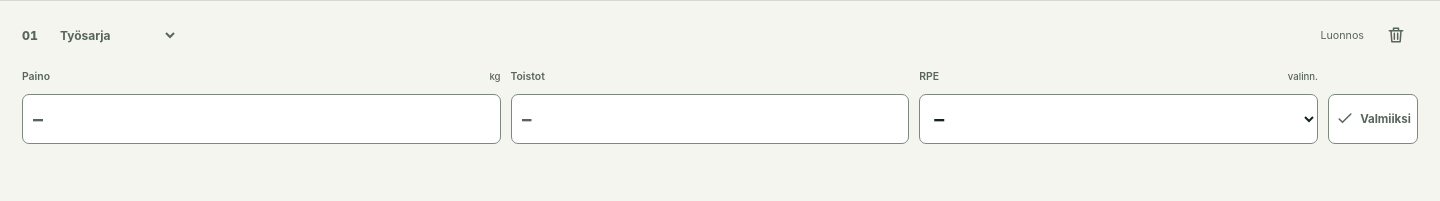
Test: never submits incomplete completed performance
The width and height of the screenshot is (1440, 201).
Click the button with aria-label "Merkitse sarja 1 valmiiksi" at [1373, 119], box 1328,94 -> 1418,144
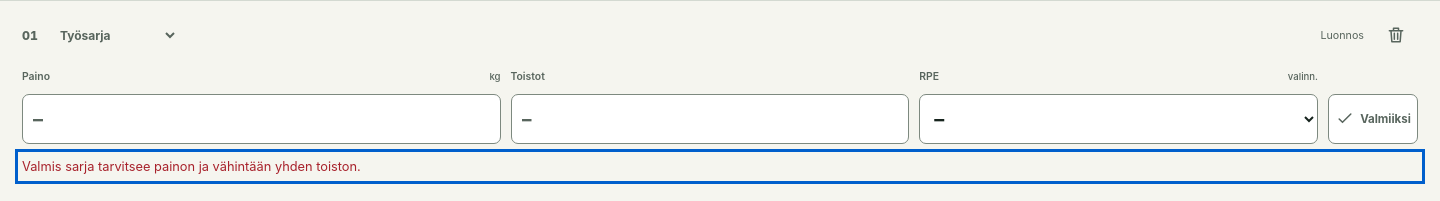
Expected: the message shows "Valmis sarja tarvitsee painon", 22,159 -> 361,174
